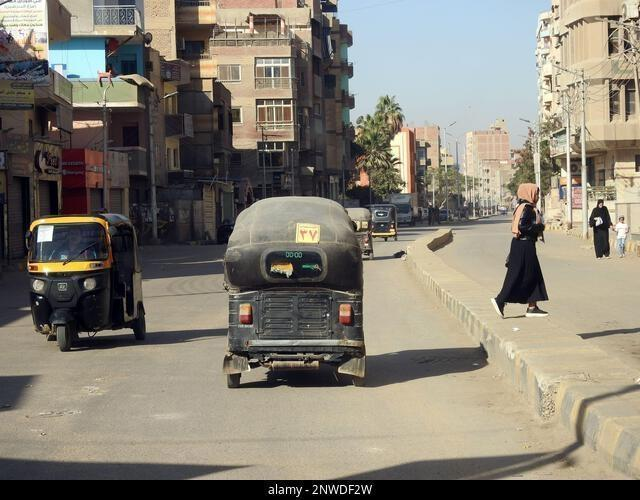keke: (217, 192, 369, 387), (22, 214, 144, 358)
